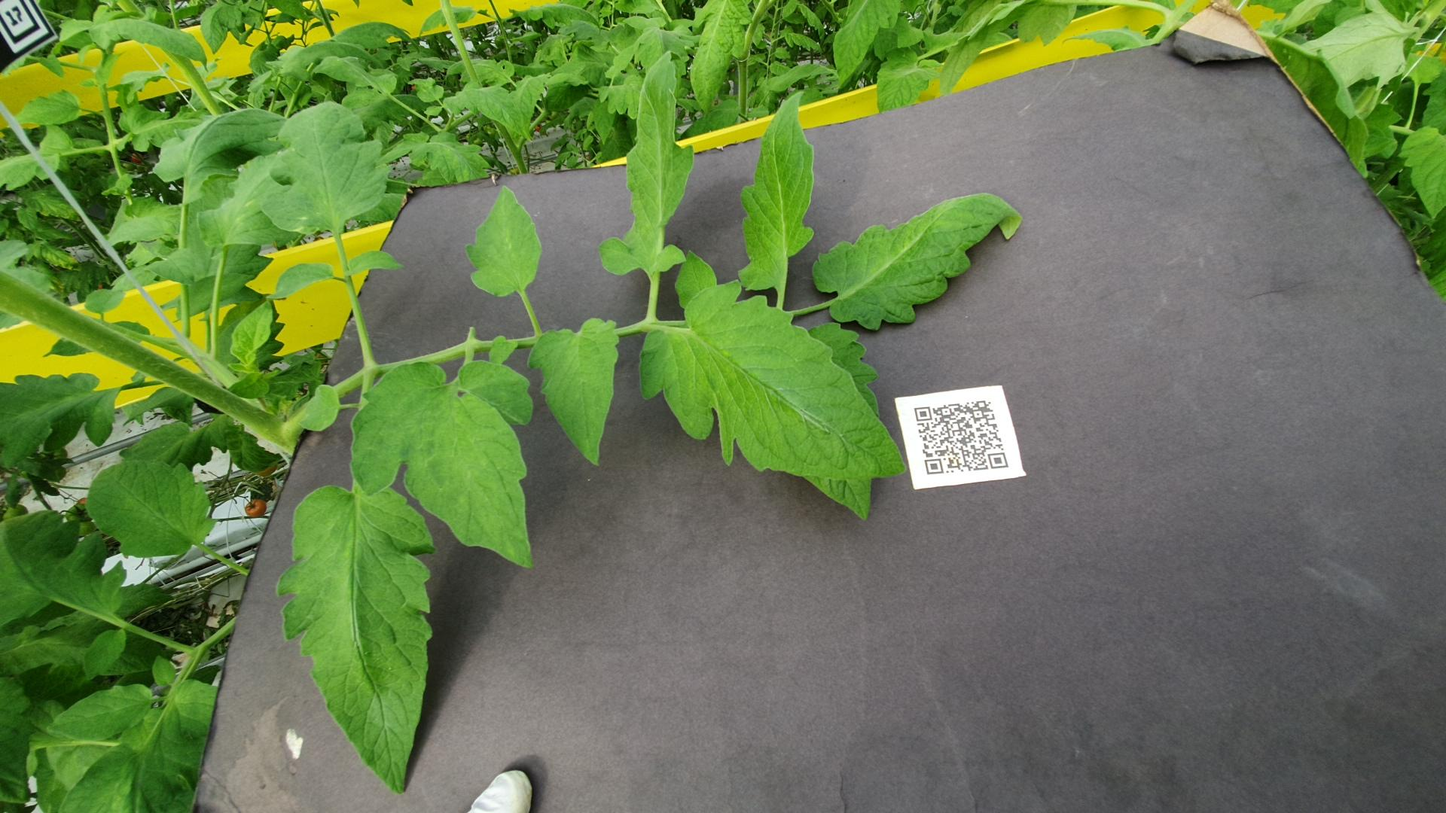Healthy: (587, 359, 950, 511), (39, 154, 590, 249), (431, 196, 807, 300), (861, 456, 1119, 576), (944, 336, 1359, 391), (1033, 148, 1276, 220), (928, 413, 1292, 459), (616, 293, 890, 354), (454, 48, 632, 119), (610, 0, 785, 66), (905, 261, 1129, 307), (125, 24, 235, 88), (1054, 785, 1226, 813), (1244, 492, 1361, 531), (911, 148, 982, 188), (228, 46, 331, 72), (1223, 8, 1289, 46), (950, 194, 1001, 228)
